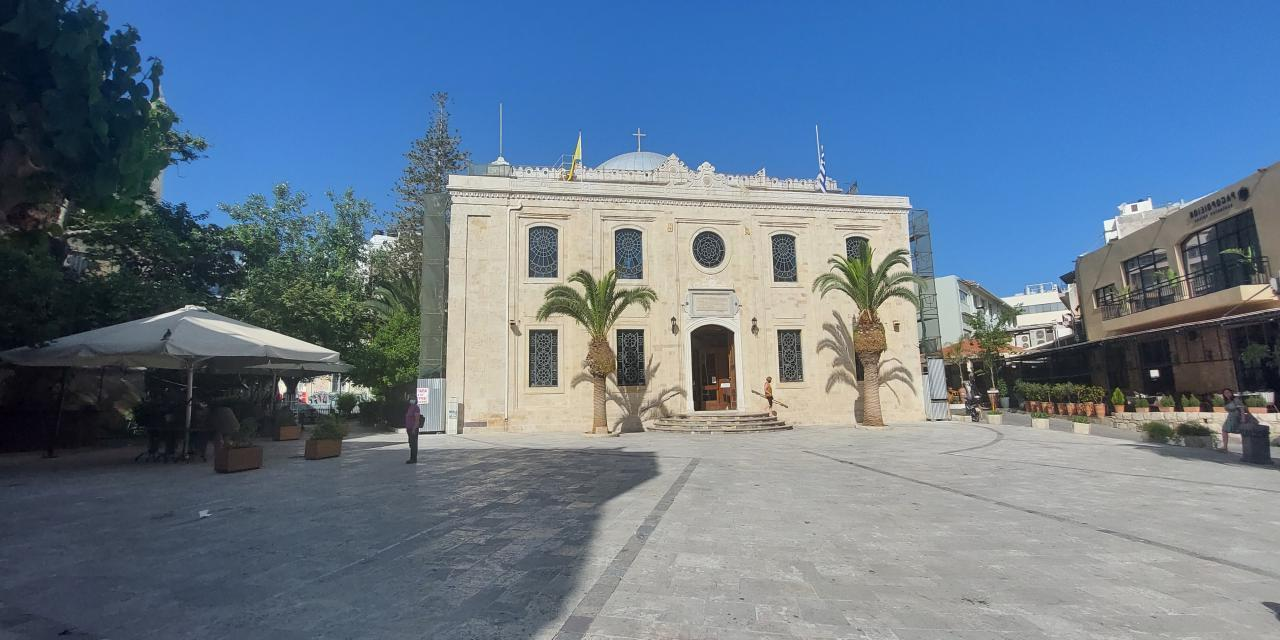Agios Titos: (442, 139, 919, 445)
